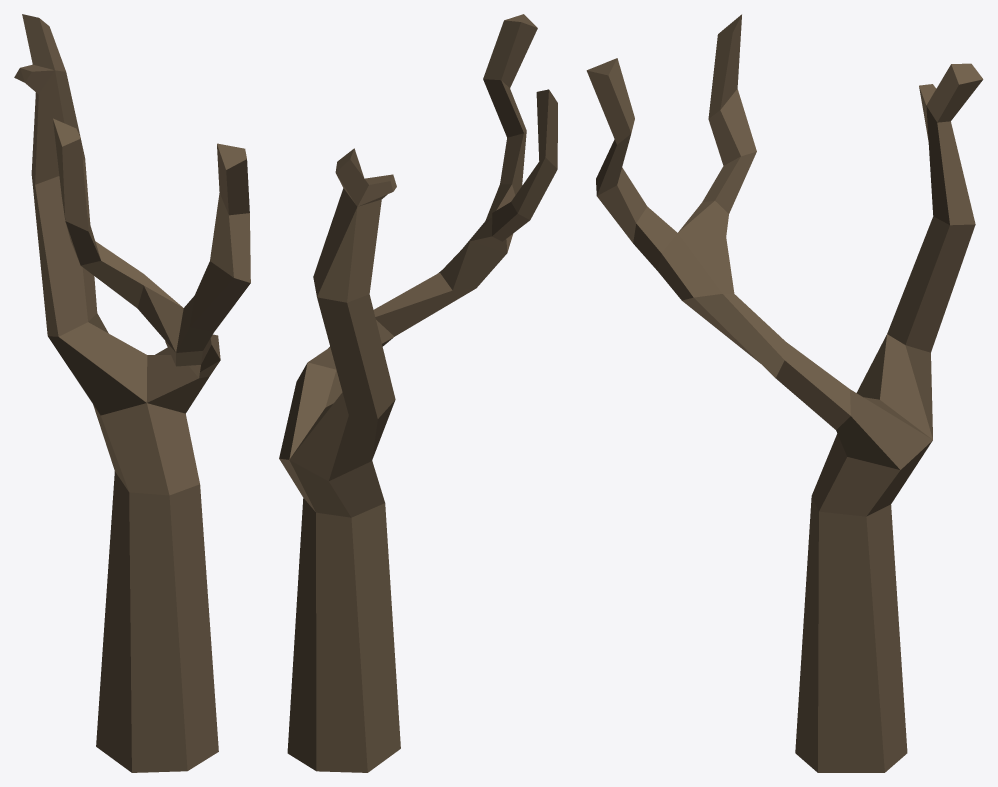
The model's file is Tree_01_Dead.fbx.
The picture shows the model from 3 angles, left to right: view 1: azimuth 30°, elevation 25°; view 2: azimuth 150°, elevation 25°; view 3: azimuth 270°, elevation 25°; orthographic projection. The views are drawn at different scales.
Parts seen in each view (by area): view 1: Tree_01_Dead; view 2: Tree_01_Dead; view 3: Tree_01_Dead.
Boxes of the visible parts, bbox=[...] form: Tree_01_Dead: bbox=[14, 14, 250, 772]; Tree_01_Dead: bbox=[279, 14, 557, 772]; Tree_01_Dead: bbox=[586, 14, 983, 772].
Bounding box in the file's own units: 88.57 × 281 × 152.
